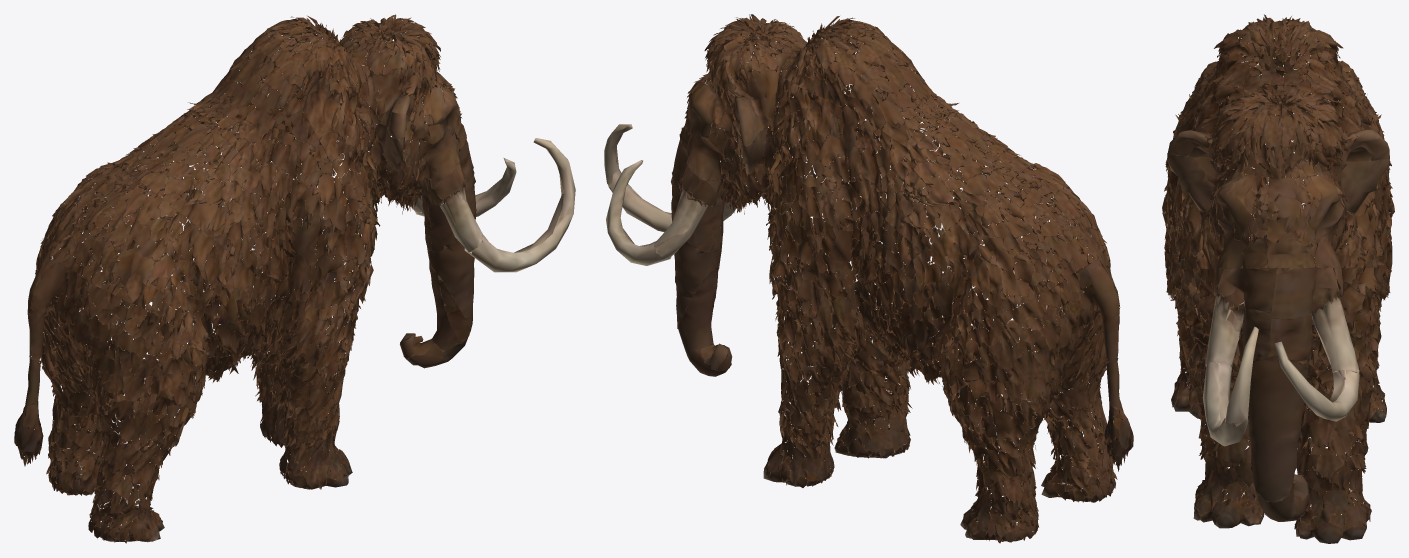
File: mammoth.glb
3 views of the same model, side by side, from view 1: azimuth 30°, elevation 25°; view 2: azimuth 150°, elevation 25°; view 3: azimuth 270°, elevation 25° (orthographic). The views are drawn at different scales.
Visible parts, largest first — view 1: Mesh_0; view 2: Mesh_0; view 3: Mesh_0.
Boxes of the visible parts, x1=… form: Mesh_0: x1=14, y1=14, x2=575, y2=543; Mesh_0: x1=604, y1=14, x2=1133, y2=543; Mesh_0: x1=1162, y1=14, x2=1394, y2=543.
Size of the model in its own units: 4.14 by 3.2 by 1.36.
Materials: 1 (1 with a texture image).
